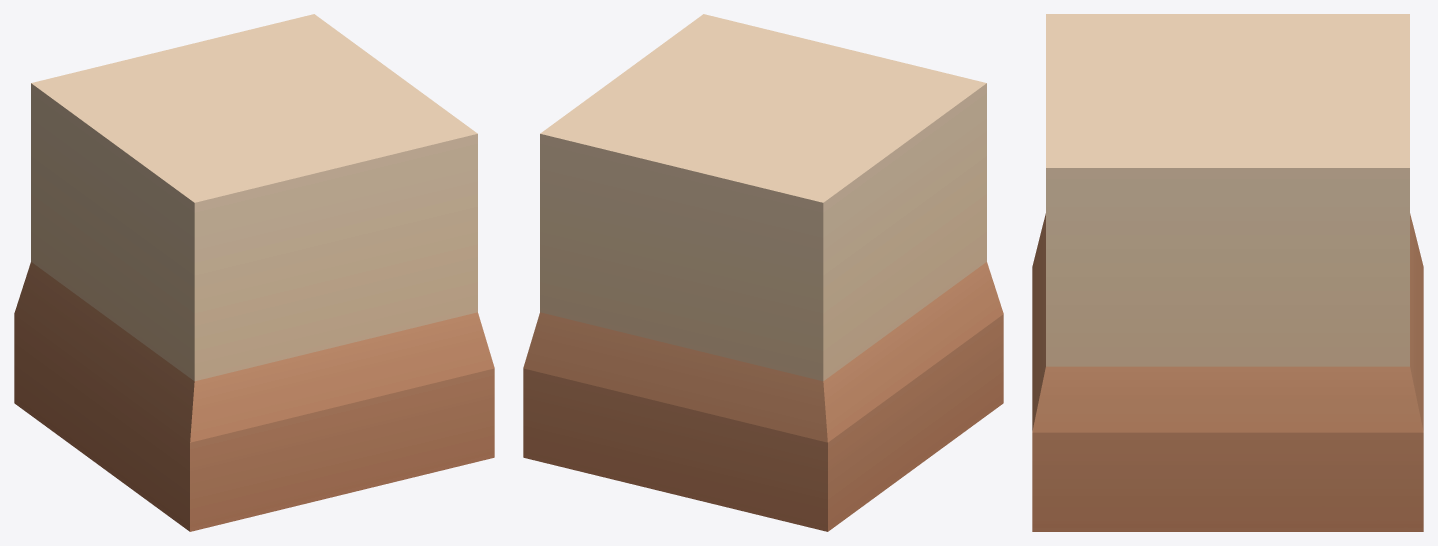
The model's file is p-castle-tower-square-base.glb.
The picture shows the model from 3 angles, left to right: view 1: azimuth 30°, elevation 25°; view 2: azimuth 150°, elevation 25°; view 3: azimuth 270°, elevation 25°; orthographic projection. The views are drawn at different scales.
Visible parts, largest first — view 1: tower-square-base; view 2: tower-square-base; view 3: tower-square-base.
Part boxes in pixels (<box>): tower-square-base: <box>14,14,494,531</box>; tower-square-base: <box>523,14,1003,531</box>; tower-square-base: <box>1032,14,1423,531</box>.
Size of the model in its own units: 1 by 1.01 by 1.
Materials: 1 (1 with a texture image).
